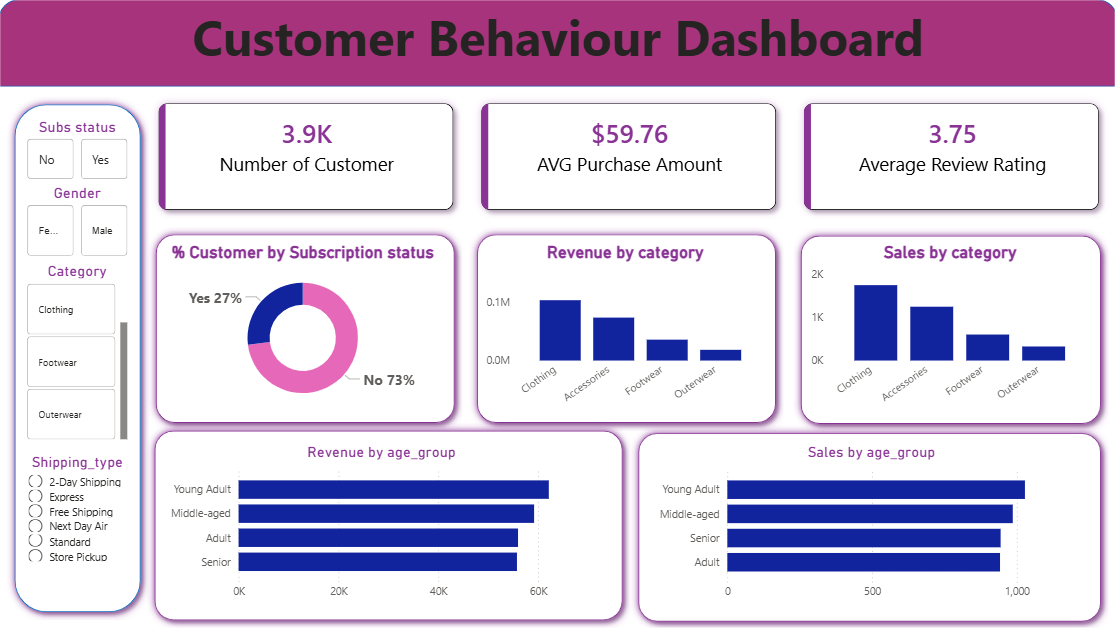

Layout of this report page (visuals, bound fields, positions):
{"tool":"powerbi","page":{"name":"Page 1","canvas":[1280,720],"ordinal":0},"visuals":[{"type":"cardVisual","fields":{"Data":["customer.Number of Customer","customer.AVG Purchase Amount","customer.Average Review Rating"]},"box":[164.7,100.2,1115.6,160.5],"z":0},{"type":"shape","box":[0,0,1280.3,100.2],"z":1000},{"type":"textbox","box":[0,0,1280.3,100.3],"z":2000},{"type":"shape","box":[171.2,260.5,359.5,233.6],"z":3000},{"type":"donutChart","title":"% Customer by Subscription status","fields":{"Category":["customer.subscription_status"],"Y":["CountNonNull(customer.customer_id)"]},"box":[188,278.6,319.7,196.2],"z":4000},{"type":"shape","box":[539.3,260.5,359.5,233.6],"z":5000},{"type":"shape","box":[908.4,260.7,360.9,233.3],"z":6000},{"type":"clusteredColumnChart","title":"Revenue by category","fields":{"Y":["Sum(customer.purchase_amount)"],"Category":["customer.category"]},"box":[552.4,278.2,328.2,195.8],"z":7000},{"type":"clusteredColumnChart","title":"Sales by category","fields":{"Category":["customer.category"],"Y":["CountNonNull(customer.customer_id)"]},"box":[923.7,278.2,328.2,195.8],"z":8000},{"type":"shape","box":[9.5,110.7,162.1,598.3],"z":9000},{"type":"advancedSlicerVisual","title":"Subs status","fields":{"Values":["customer.subscription_status"]},"box":[28.4,136.4,124.2,75.6],"z":10000},{"type":"advancedSlicerVisual","title":"Gender","fields":{"Values":["customer.gender"]},"box":[28.4,212,124.2,87.8],"z":11000},{"type":"advancedSlicerVisual","title":"Category","fields":{"Values":["customer.category"]},"box":[28.4,299.8,124.2,208],"z":12000},{"type":"listSlicer","fields":{"Values":["customer.shipping_type"]},"box":[28.4,518.6,124.2,164.8],"z":13000},{"type":"shape","box":[170,484.2,552.7,234.8],"z":13001},{"type":"clusteredBarChart","title":"Revenue by age_group","fields":{"Y":["Sum(customer.purchase_amount)"],"Category":["customer.age_group"]},"box":[187.7,507.8,502.4,187.7],"z":13002},{"type":"shape","box":[722.7,486.7,546.6,233.6],"z":13003},{"type":"clusteredBarChart","title":"Sales by age_group","fields":{"Category":["customer.age_group"],"Y":["CountNonNull(customer.customer_id)"]},"box":[745.9,507.5,505,188.3],"z":13004}]}

Visuals, with their boxes in screenshot pixels (x1, y1, x2, y2), scaled from the page's 1280x720 canvas onto the 1115x628 screenshot:
cardVisual - customer.Number of Customer x customer.AVG Purchase Amount: select_region(143, 87, 1114, 227)
shape: select_region(0, 0, 1114, 87)
textbox: select_region(0, 0, 1114, 87)
shape: select_region(149, 227, 462, 431)
"% Customer by Subscription status" donutChart: select_region(164, 243, 442, 414)
shape: select_region(470, 227, 783, 431)
shape: select_region(791, 227, 1106, 431)
"Revenue by category" clusteredColumnChart: select_region(481, 243, 767, 413)
"Sales by category" clusteredColumnChart: select_region(805, 243, 1091, 413)
shape: select_region(8, 97, 149, 618)
"Subs status" advancedSlicerVisual: select_region(25, 119, 133, 185)
"Gender" advancedSlicerVisual: select_region(25, 185, 133, 261)
"Category" advancedSlicerVisual: select_region(25, 261, 133, 443)
listSlicer - customer.shipping_type: select_region(25, 452, 133, 596)
shape: select_region(148, 422, 630, 627)
"Revenue by age_group" clusteredBarChart: select_region(164, 443, 601, 607)
shape: select_region(630, 425, 1106, 627)
"Sales by age_group" clusteredBarChart: select_region(650, 443, 1090, 607)
